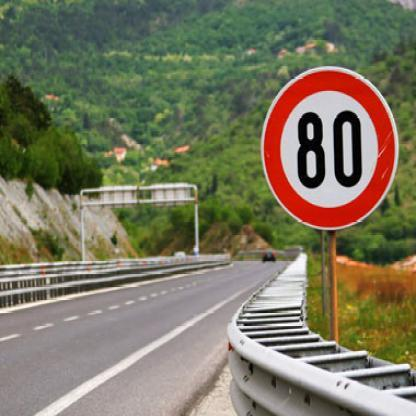Speed Limit 80: (264, 67, 396, 224)
